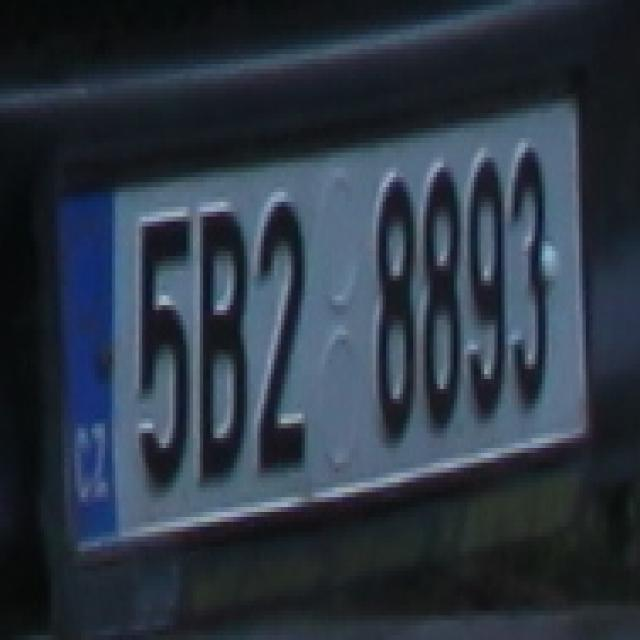2: (250, 197, 304, 468)
3: (504, 138, 548, 424)
5: (128, 207, 190, 487)
8: (423, 158, 471, 444), (366, 168, 416, 438)
9: (464, 148, 508, 418)
B: (196, 192, 248, 482)
